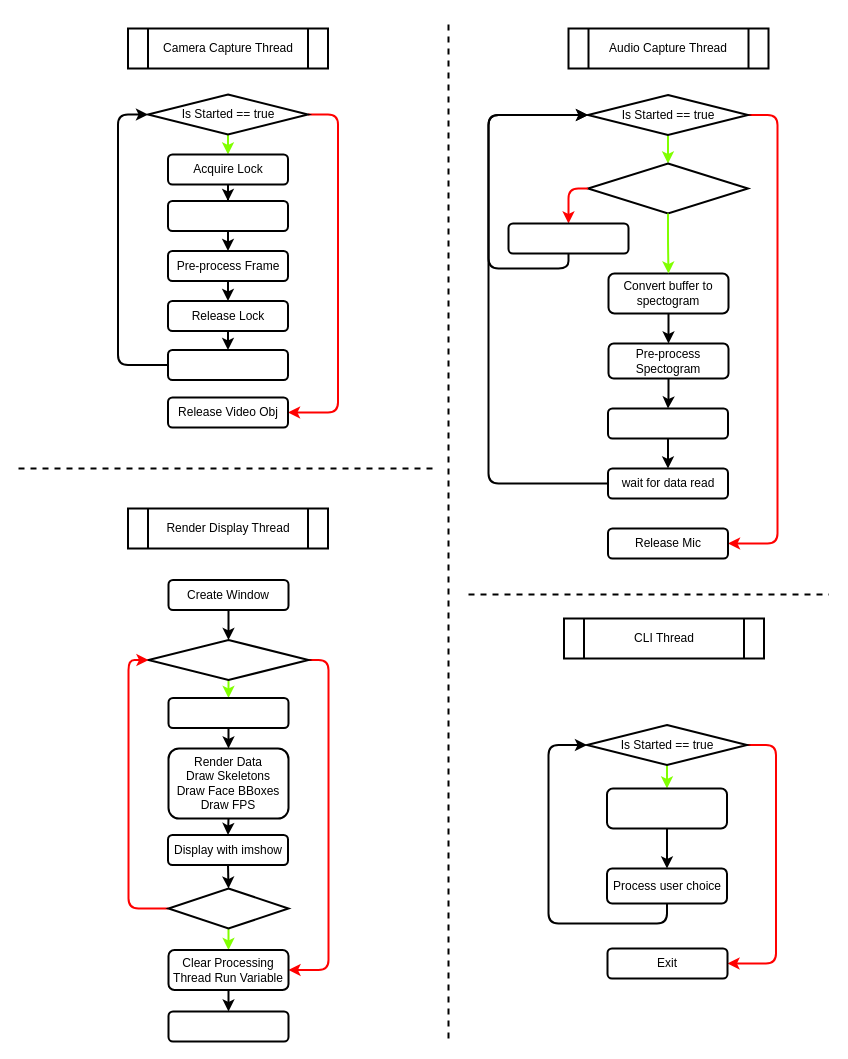
Some shapes in this 848 by 1059 pixel diagram are drawn without their labels. Each missing label, with the box of its shape:
Append data to 5 sec buffer: (507, 222, 629, 254)
Check for 'q' key: (167, 887, 289, 929)
Close Windows: (167, 1010, 289, 1042)
data_requested == true: (586, 162, 748, 214)
Get Frame: (166, 200, 288, 232)
Get top of Queue: (167, 696, 289, 728)
Is end != false: (147, 638, 309, 680)
Read user choice: (606, 787, 728, 829)
Set data_ready=true: (606, 407, 728, 439)
Sleep: (166, 348, 288, 380)
